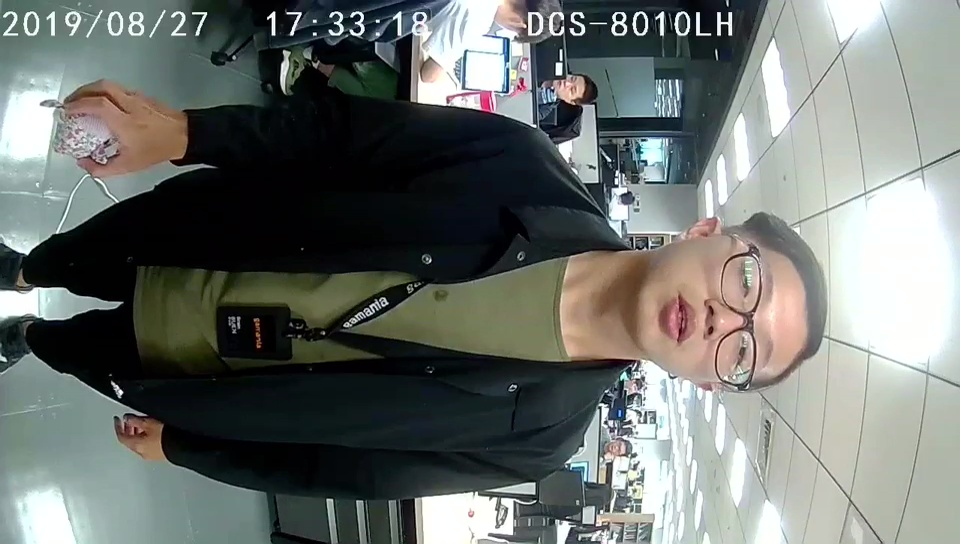pig: (53, 107, 123, 164)
